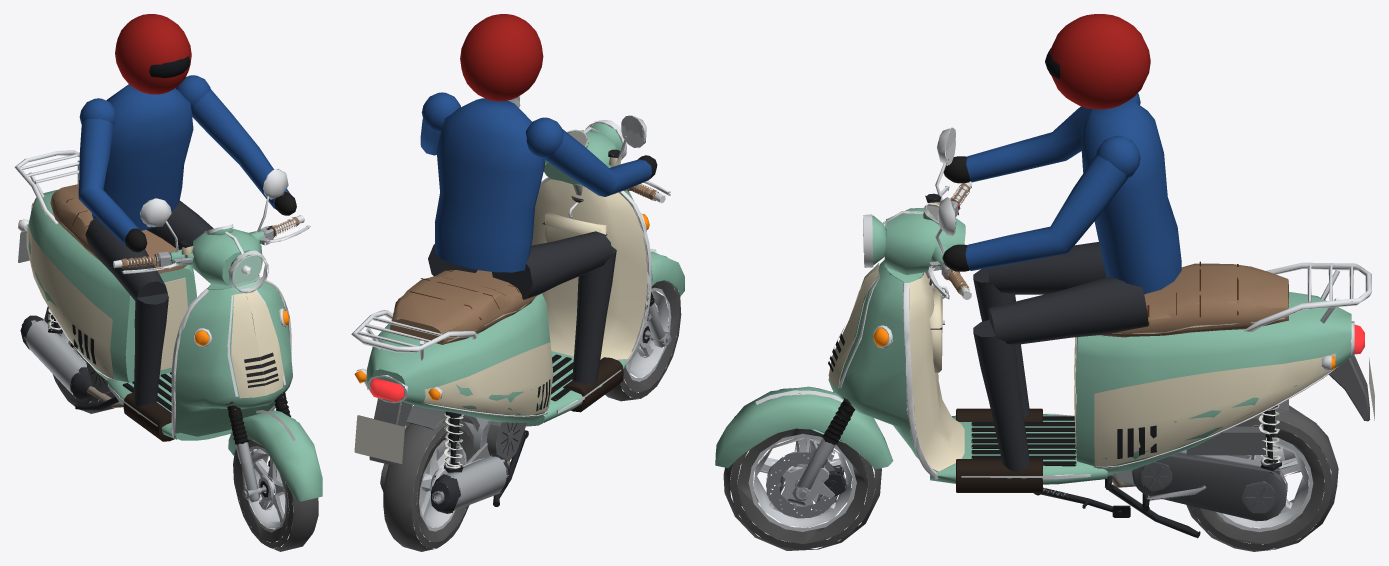
Rendered from vb_scooter.glb.
3 views of the same model, side by side, from view 1: azimuth 30°, elevation 25°; view 2: azimuth 150°, elevation 25°; view 3: azimuth 270°, elevation 25° (orthographic). The views are drawn at different scales.
Visible parts, largest first — view 1: body, rider_torso, fork, rider_legs, wheel_front, rider_head, wheel_rear; view 2: body, rider_torso, rider_legs, wheel_rear, rider_head, fork, wheel_front; view 3: body, rider_torso, rider_legs, fork, wheel_front, wheel_rear, rider_head.
Boxes of the visible parts, x1,y1,x2,y2 form: body: [14, 150, 292, 440]; rider_torso: [78, 75, 296, 252]; fork: [113, 168, 322, 502]; rider_legs: [85, 200, 259, 441]; wheel_front: [233, 439, 318, 551]; rider_head: [115, 14, 191, 94]; wheel_rear: [44, 306, 115, 413]; body: [351, 177, 652, 513]; rider_torso: [420, 92, 657, 272]; rider_legs: [428, 231, 623, 412]; wheel_rear: [383, 416, 474, 551]; rider_head: [460, 14, 543, 101]; fork: [508, 96, 684, 347]; wheel_front: [605, 280, 681, 401]; body: [828, 260, 1374, 538]; rider_torso: [942, 93, 1181, 294]; rider_legs: [956, 242, 1148, 492]; fork: [715, 127, 971, 501]; wheel_front: [723, 428, 881, 550]; wheel_rear: [1186, 405, 1338, 551]; rider_head: [1045, 14, 1150, 109].
Size of the model in its own units: 0.7621 by 1.68 by 1.9.
